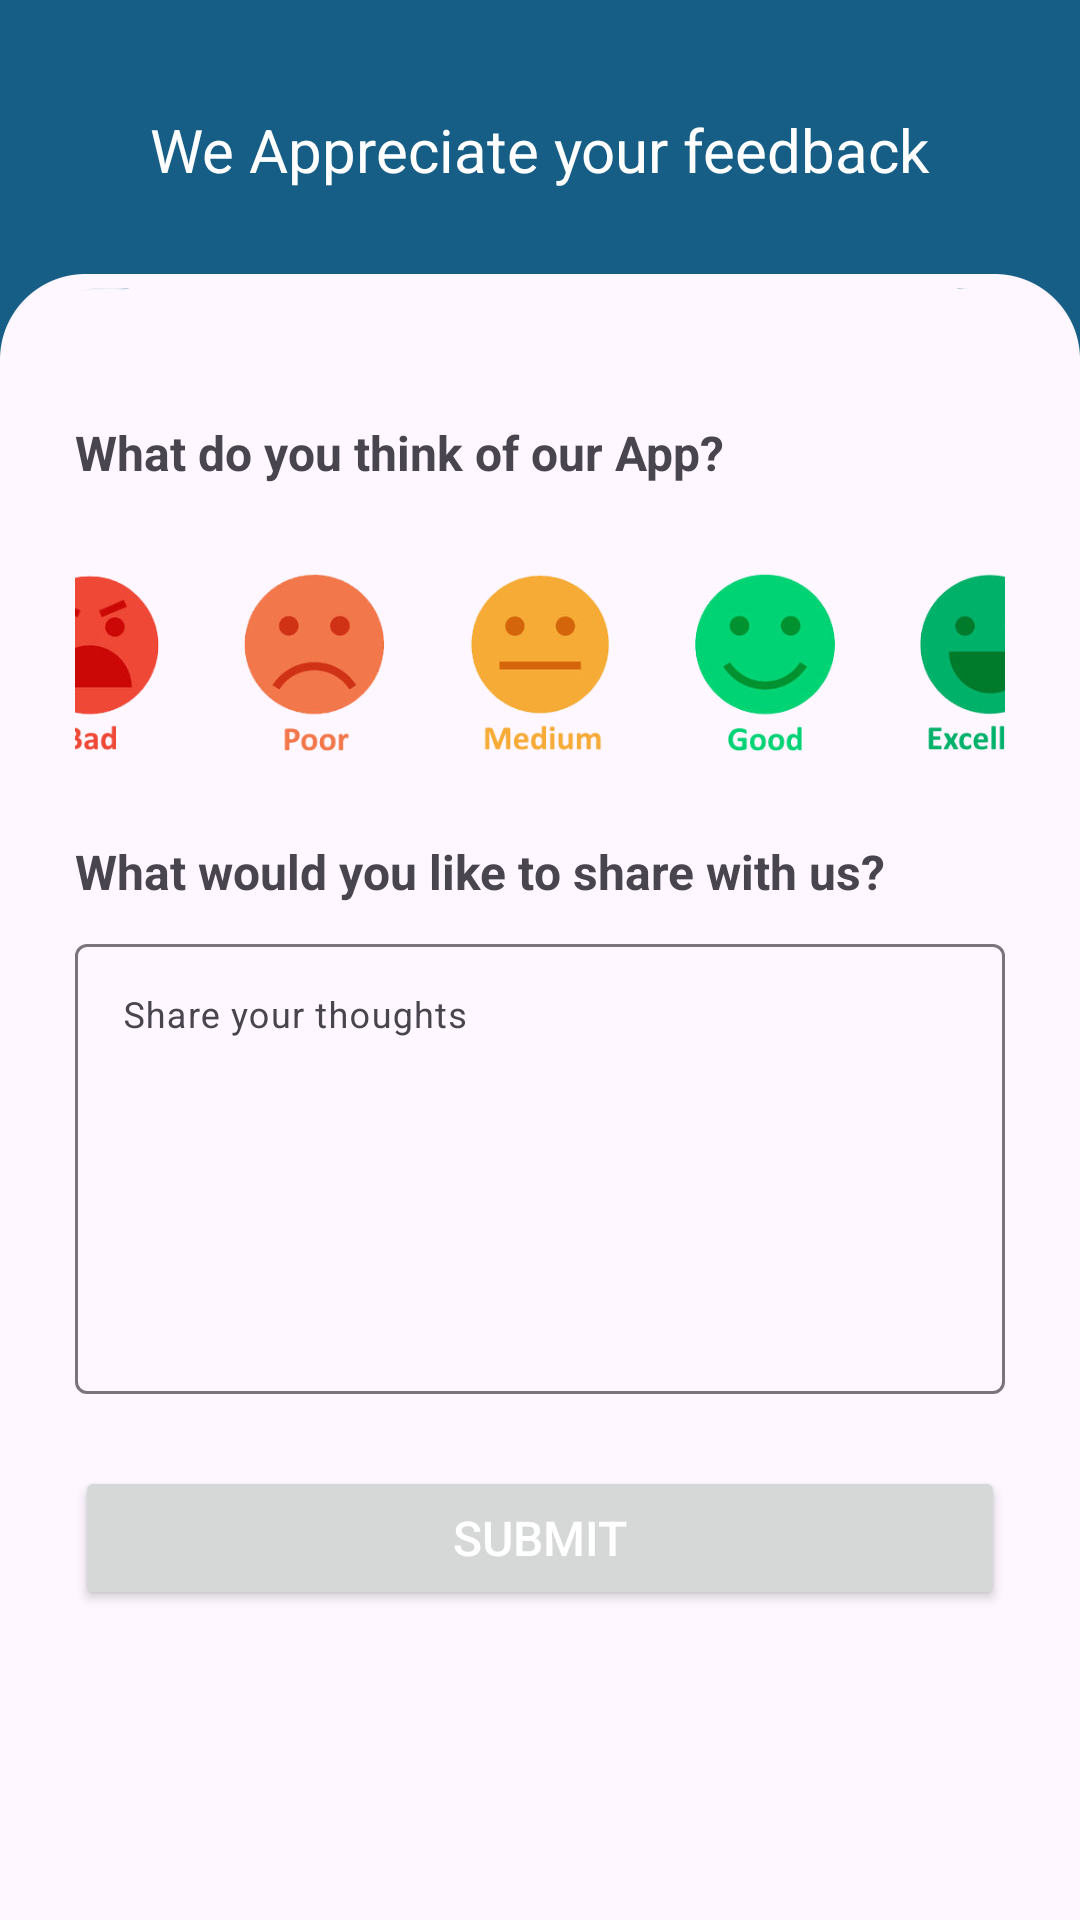

Icons on this 1080x1920 Android screen, each with its box as detection(x1, y1, x2, y2):
Happy: detection(695, 574, 835, 751)
Neutral: detection(471, 575, 609, 750)
Unhappy: detection(244, 574, 384, 751)
